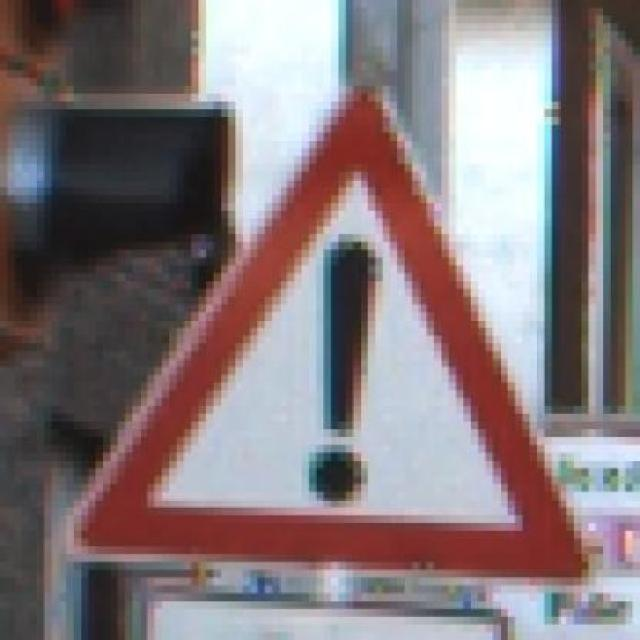Attention Please-: (59, 78, 596, 593)
